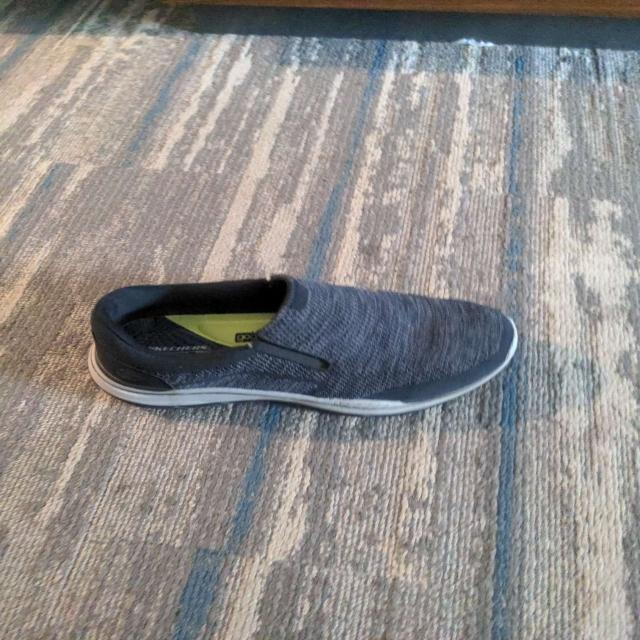shoe: (83, 274, 520, 418)
